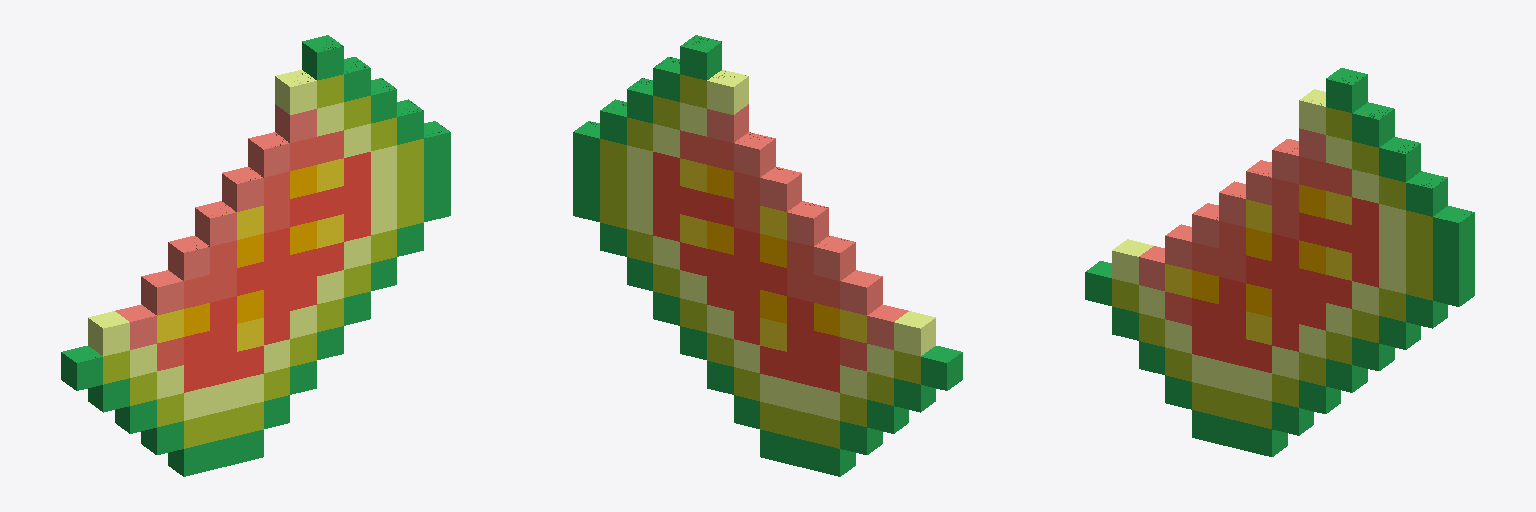
3 views of the same model, side by side, from view 1: azimuth 30°, elevation 25°; view 2: azimuth 150°, elevation 25°; view 3: azimuth 330°, elevation 25° (orthographic).
Size of the model in its own units: 0.875 by 0.875 by 0.0625.
1 materials, 1 textured.